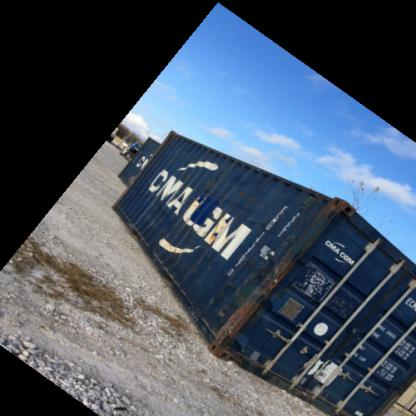Damage: (212, 252, 288, 338), (140, 191, 174, 229), (294, 266, 334, 298), (196, 175, 219, 205), (198, 222, 225, 244), (332, 292, 359, 310)
